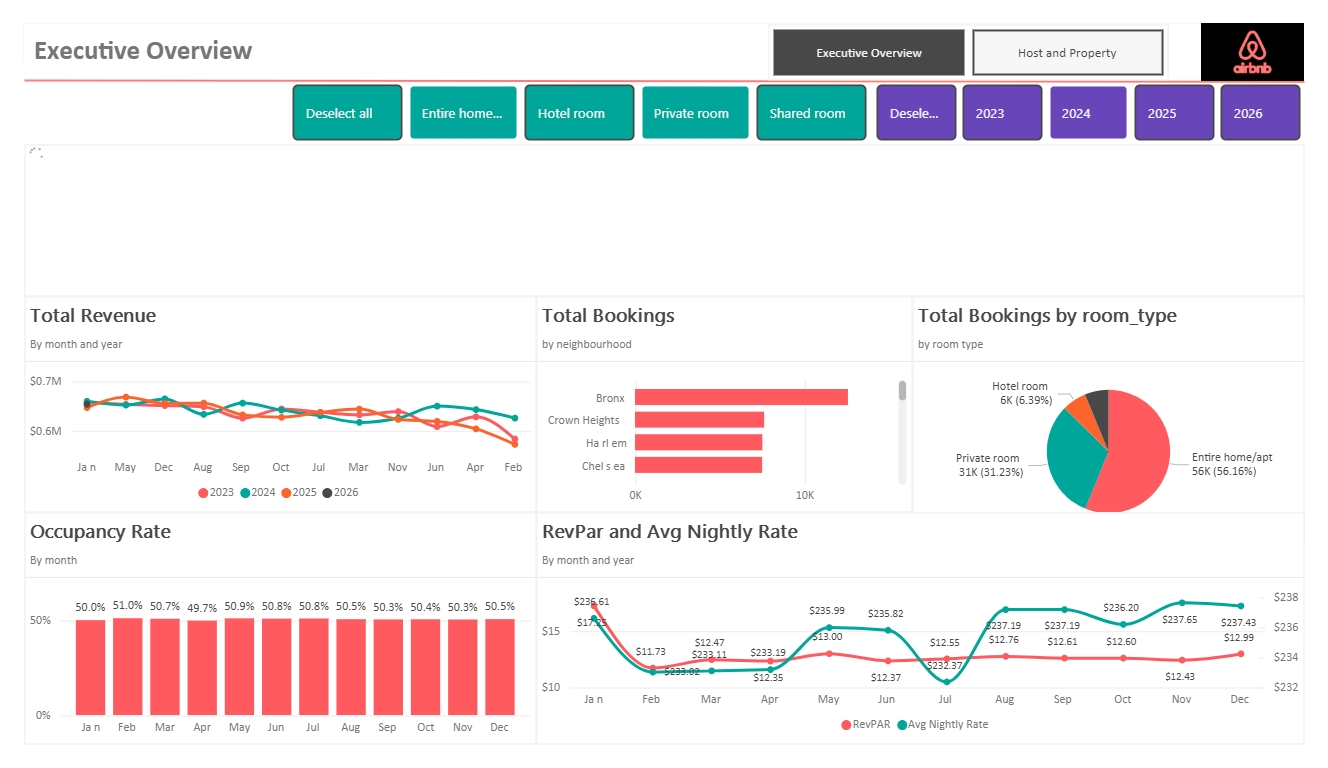

What the dashboard file says about the page in this screenshot:
{"tool":"powerbi","page":{"name":"Executive Overview","canvas":[1280,720],"ordinal":0},"visuals":[{"type":"advancedSlicerVisual","title":"Room Type","fields":{"Values":["dim_properties.room_type"]},"box":[264,56,584,64],"z":0},{"type":"advancedSlicerVisual","title":"Room Type","fields":{"Values":["dim_date.year"]},"box":[848,56,432,64],"z":1000},{"type":"textbox","box":[0,0,272,56],"z":2000},{"type":"cardVisual","fields":{"Data":["_Measure.Total Revenue","_Measure.Avg Nightly Rate","_Measure.Occupancy Rate","_Measure.Avg Review Score","_Measure.Cancellation Rate"]},"box":[0,120,1280,152],"z":3000},{"type":"lineChart","title":"Total Revenue","fields":{"Y":["_Measure.Total Revenue"],"Category":["dim_date.month_short"],"Series":["dim_date.year"]},"box":[0,272,512,216],"z":4000},{"type":"clusteredBarChart","fields":{"Category":["dim_location.neighbourhood"],"Y":["_Measure.Total Bookings"]},"box":[512,272,376,216],"z":5000},{"type":"pieChart","fields":{"Category":["dim_properties.room_type"],"Y":["_Measure.Total Bookings"]},"box":[888,272,392,240],"z":6000},{"type":"columnChart","title":"Occupancy Rate","fields":{"Y":["_Measure.Occupancy Rate"],"Category":["dim_date.month_short"]},"box":[0,488,512,232],"z":7000},{"type":"lineChart","title":"RevPar and Avg Nightly Rate","fields":{"Category":["dim_date.month_short"],"Y":["_Measure.RevPAR"],"Y2":["_Measure.Avg Nightly Rate"]},"box":[512,488,768,232],"z":8000},{"type":"pageNavigator","box":[744,0,400,56],"z":9000}]}

Visuals, with their boxes in screenshot pixels (x1, y1, x2, y2), scaled from the page's 1280x720 canvas onto the 1328x768 screenshot:
"Room Type" advancedSlicerVisual: 274,60,880,128
"Room Type" advancedSlicerVisual: 880,60,1327,128
textbox: 0,0,282,60
cardVisual - _Measure.Total Revenue x _Measure.Avg Nightly Rate: 0,128,1327,290
"Total Revenue" lineChart: 0,290,531,521
clusteredBarChart - dim_location.neighbourhood x _Measure.Total Bookings: 531,290,921,521
pieChart - dim_properties.room_type x _Measure.Total Bookings: 921,290,1327,546
"Occupancy Rate" columnChart: 0,521,531,767
"RevPar and Avg Nightly Rate" lineChart: 531,521,1327,767
pageNavigator: 772,0,1187,60
